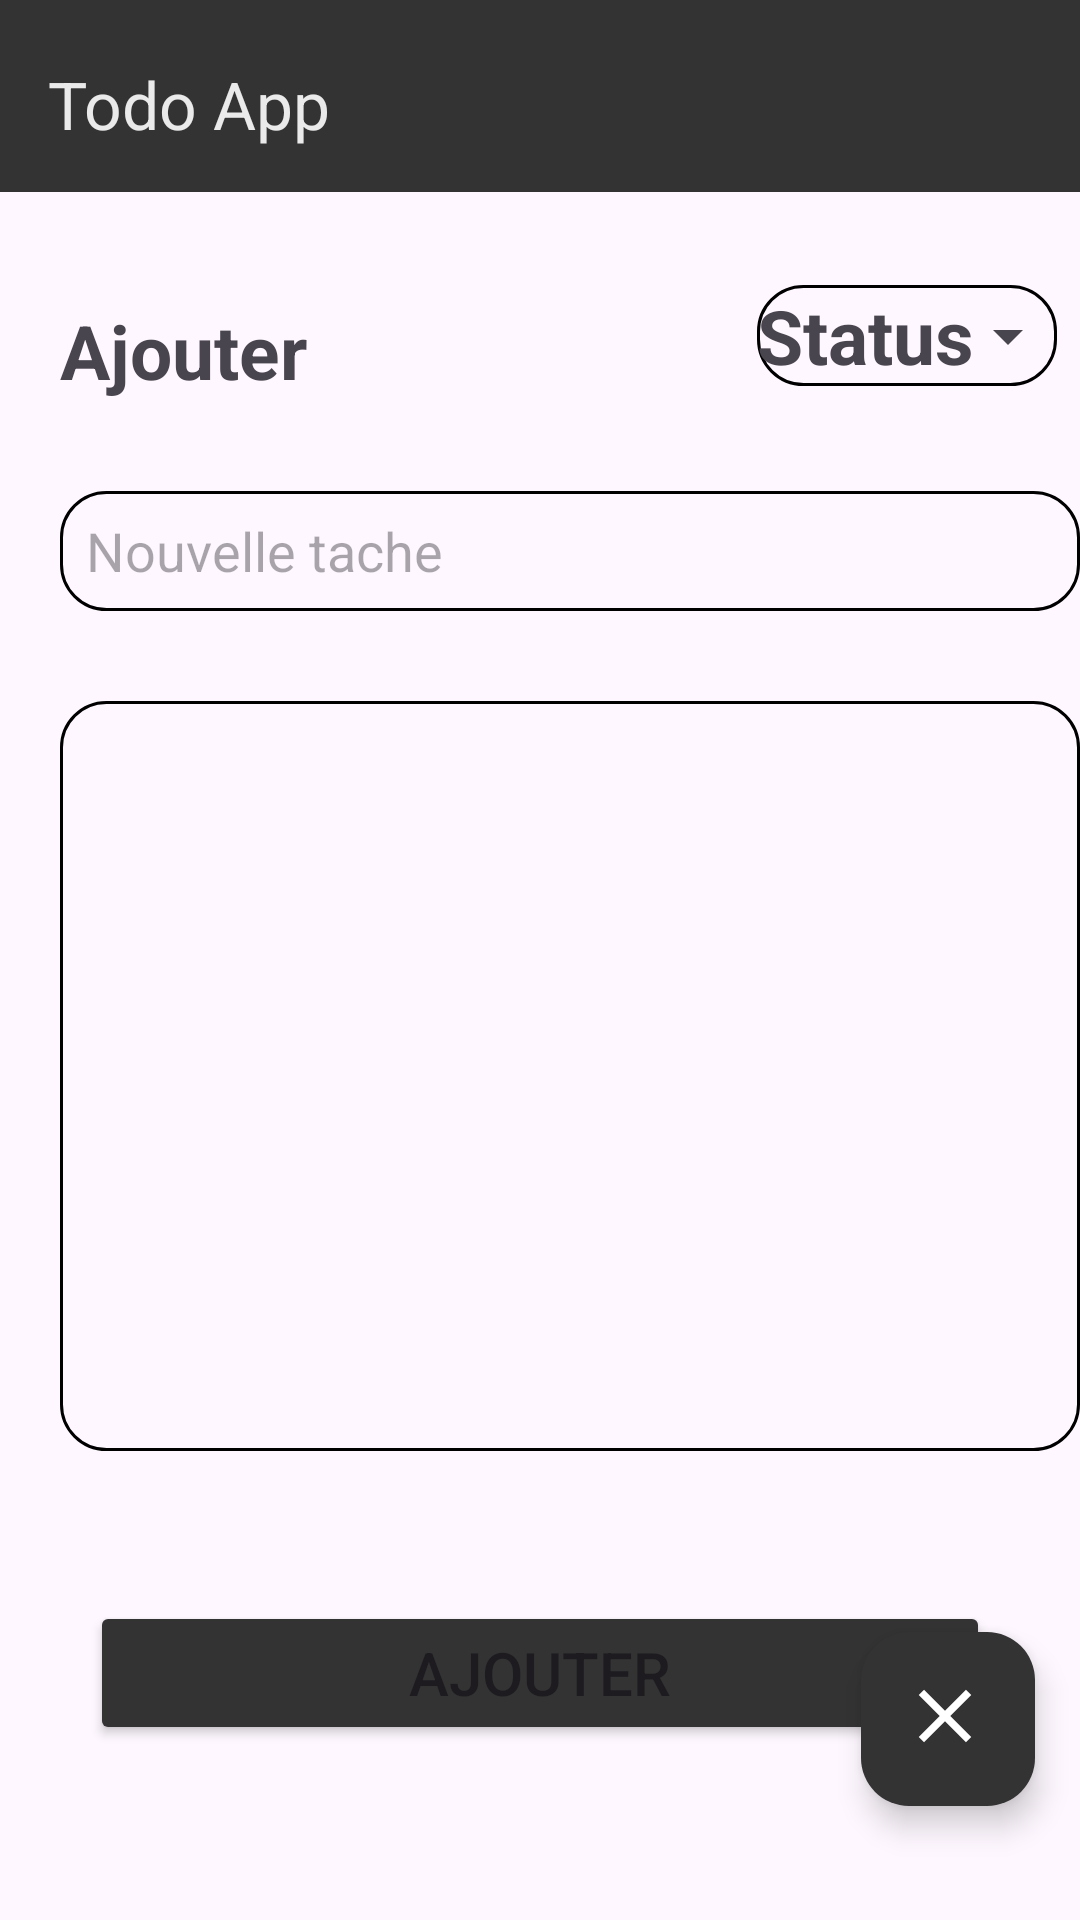

Point at icon controls on the screen. Image size 1080 x 1920, points as (x,y).
close: (948,1719)
